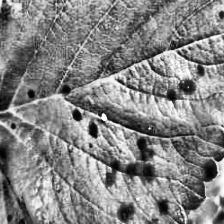Leaf Spot: (0, 0, 224, 224), (0, 130, 122, 224)
